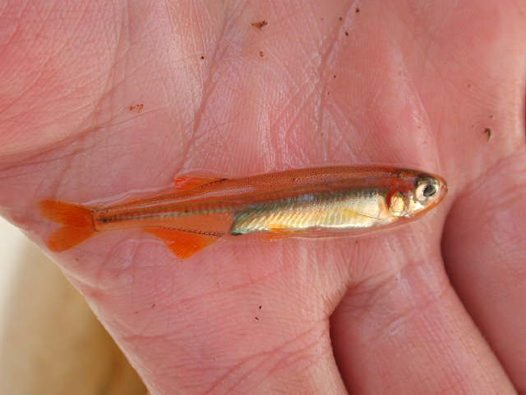fish: (38, 163, 448, 260)
